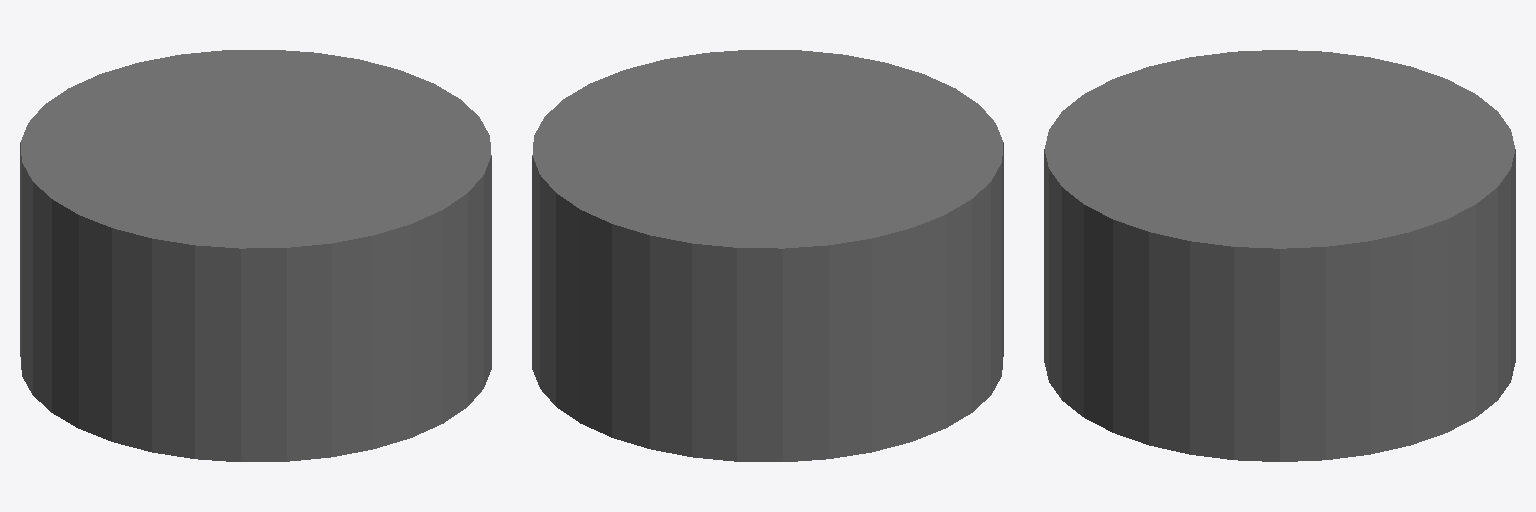
robot.urdf — mecanumbot:
<?xml version="1.0" ?>
<robot name="mecanumbot" xmlns:xacro="http://ros.org/wiki/xacro">

  <material name="grey">
    <color rgba="0.5 0.5 0.5 1.0" />
  </material>
  <material name="blue">
    <color rgba="0.0 0.0 0.8 1.0" />
  </material>

  <link name="base_footprint" />

  <joint name="base_joint" type="fixed">
    <parent link="base_footprint" />
    <child link="base_link" />
    <origin xyz="0 0 0" rpy="0 0 0" />
  </joint>
  <link name="base_link">
    <visual>
      <origin xyz="0 0 0" rpy="0 0 0" />
      <geometry>
        <cylinder radius="0.03" length="0.03" />
      </geometry>
      <material name="grey" />
    </visual>
    <collision>
      <origin xyz="0 0 0" rpy="0 0 0" />
      <geometry>   
        <cylinder radius="0.03" length="0.03" />
      </geometry>
    </collision>
    <inertial>
      <origin xyz="0.0 0.0 0.0" rpy="0.0 0.0 0.0"/>
      <mass value="1"/>
      <inertia ixx="8.7002718e-03" ixy="-4.7576583e-05" ixz="1.1160499e-04"
               iyy="8.6195418e-03" iyz="-3.5422299e-06"
               izz="1.4612727e-02" />
    </inertial>
  </link>
</robot>

--- Render facts (derived) ---
3 views of the same robot in one strip: view 1: azimuth 30°, elevation 25°; view 2: azimuth 150°, elevation 25°; view 3: azimuth 270°, elevation 25° (orthographic).
Robot: mecanumbot — 2 links, 1 joints (1 fixed); root link base_footprint; default pose: every joint at zero.
Links seen in each view (by area): view 1: base_link; view 2: base_link; view 3: base_link.
Link boxes in pixels (x1,y1,x2,y2): base_link: (20, 50, 491, 461); base_link: (532, 50, 1003, 461); base_link: (1044, 50, 1515, 461).
Bounding box of the posed robot: 0.06 × 0.06 × 0.03 m (x, y, z).
Geometry: primitives only (box / cylinder / sphere), no mesh files.